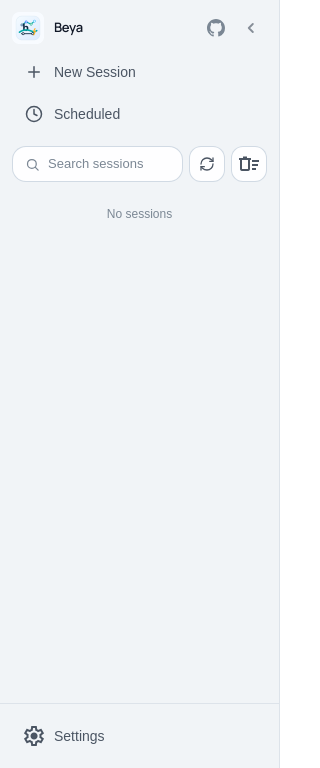
Scenario: Sidebar › collapses into an icon rail and expands back
Click the button named "Collapse sidebar".
click(251, 28)  # box [235,12,267,44]
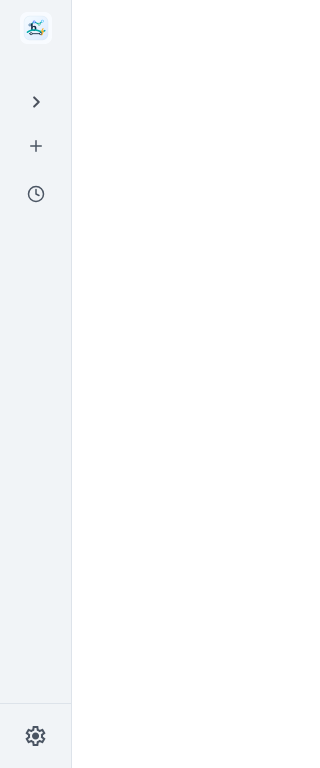
Expected: the field with placeholder "Search sessions" is not shown
Now the element named "Sidebar" has attribute data-state="closed", box [0,0,72,767]
Now the button with test id "sidebar-expand-button" has class "sidebar-toggle-button--collapsed"
Click the button named "Expand sidebar".
click(36, 102)  # box [20,86,52,118]
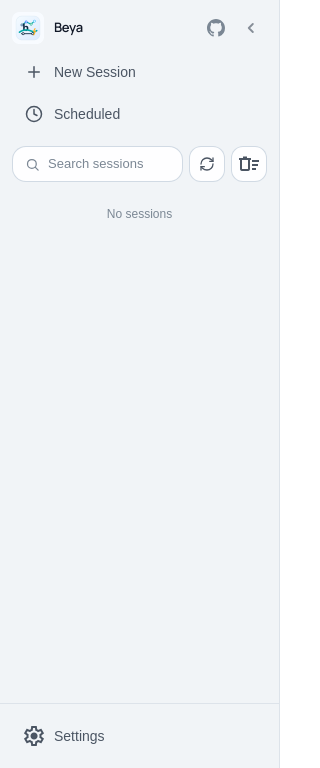
Now the field with placeholder "Search sessions" is shown, box [40,154,170,174]
